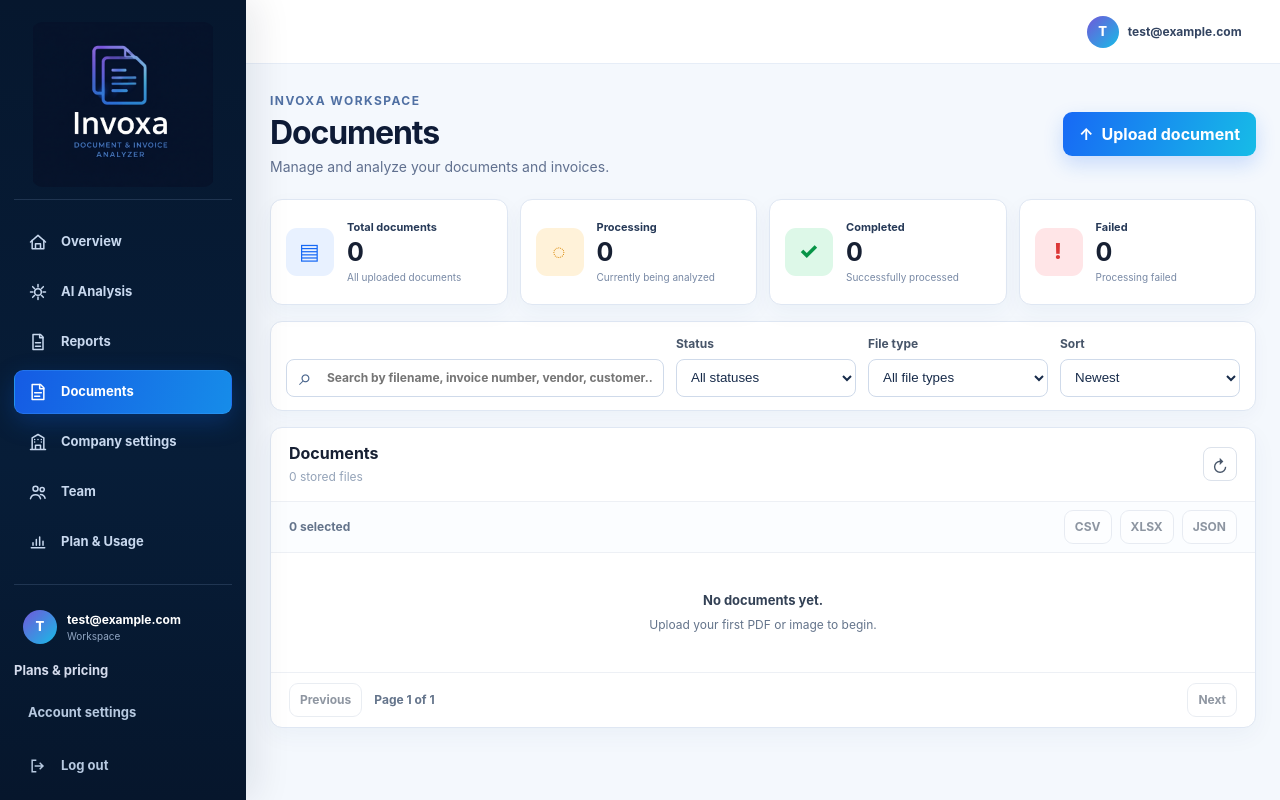
it: commercial team management › filters active members and pending invitations by email
This screenshot has width=1280, height=800.
(page scrolled)
Click the button "Team": (123, 492) [14,470,232,514]
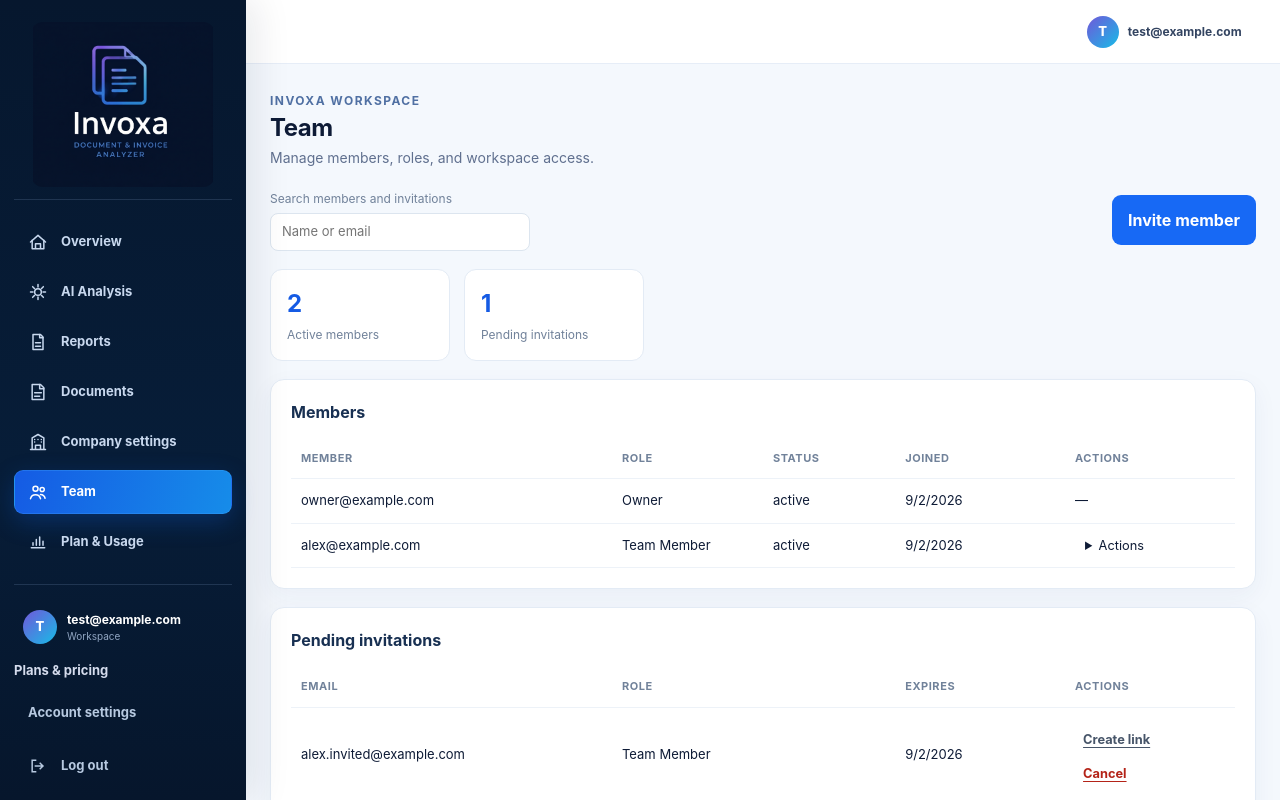
Expected: the text "alex@example.com" is shown, [291,523,612,568]
In the search field labelled "Search members and invitations": (400, 232) [270,213,530,251], type "invited"
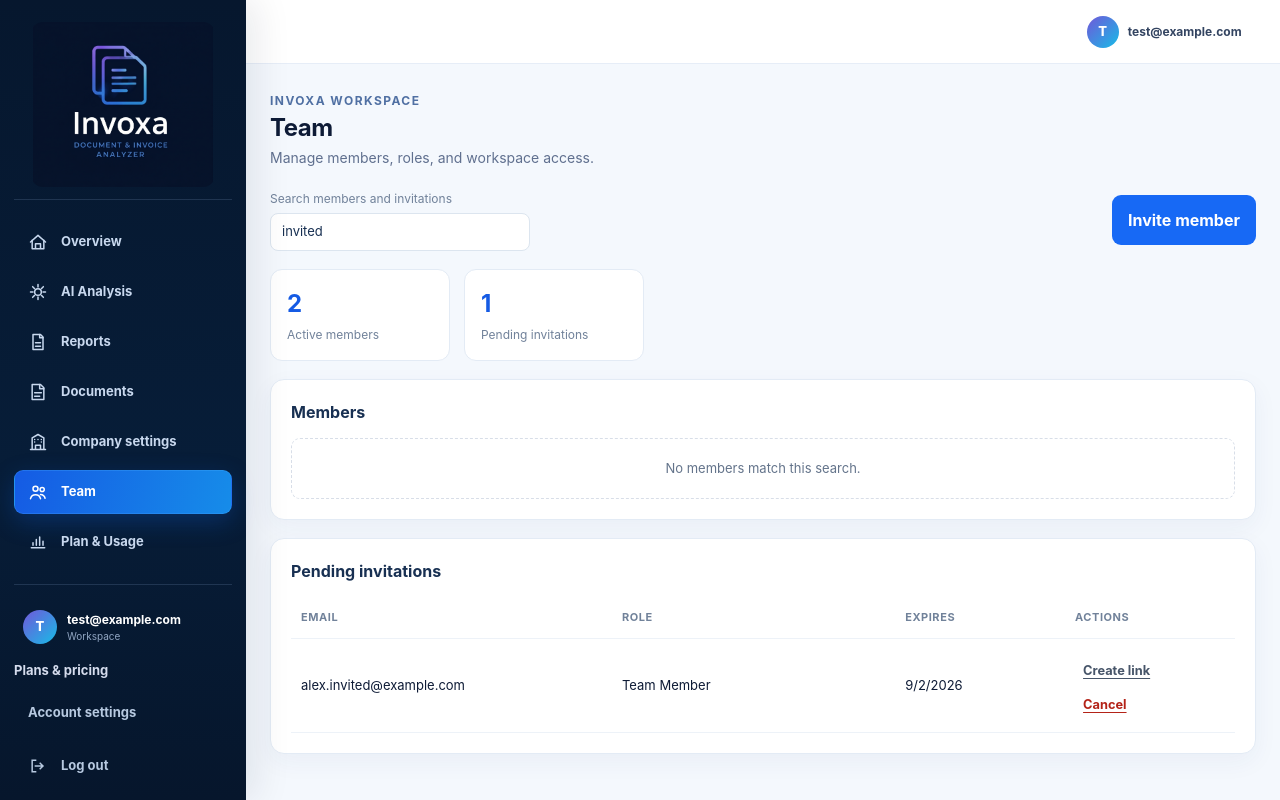
Expected: the text "alex.invited@example.com" is shown, [291,638,612,732]
Expected: the text "alex@example.com" is gone
